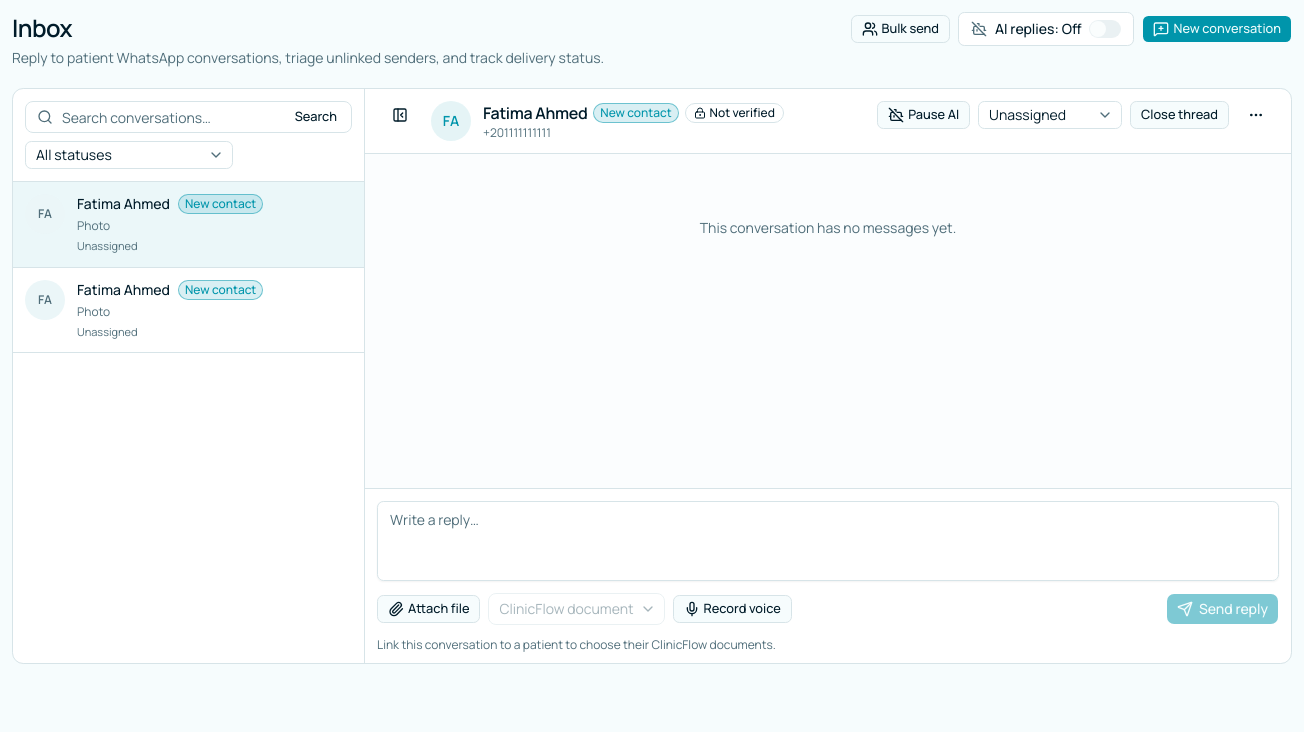
Test: P11Q — bulk selection is opt-in › turns rows into selectable ones only in selection mode
This screenshot has width=1304, height=732.
Click the button with test id "bulk-start-selecting": [900, 29] box [850,15,950,43]
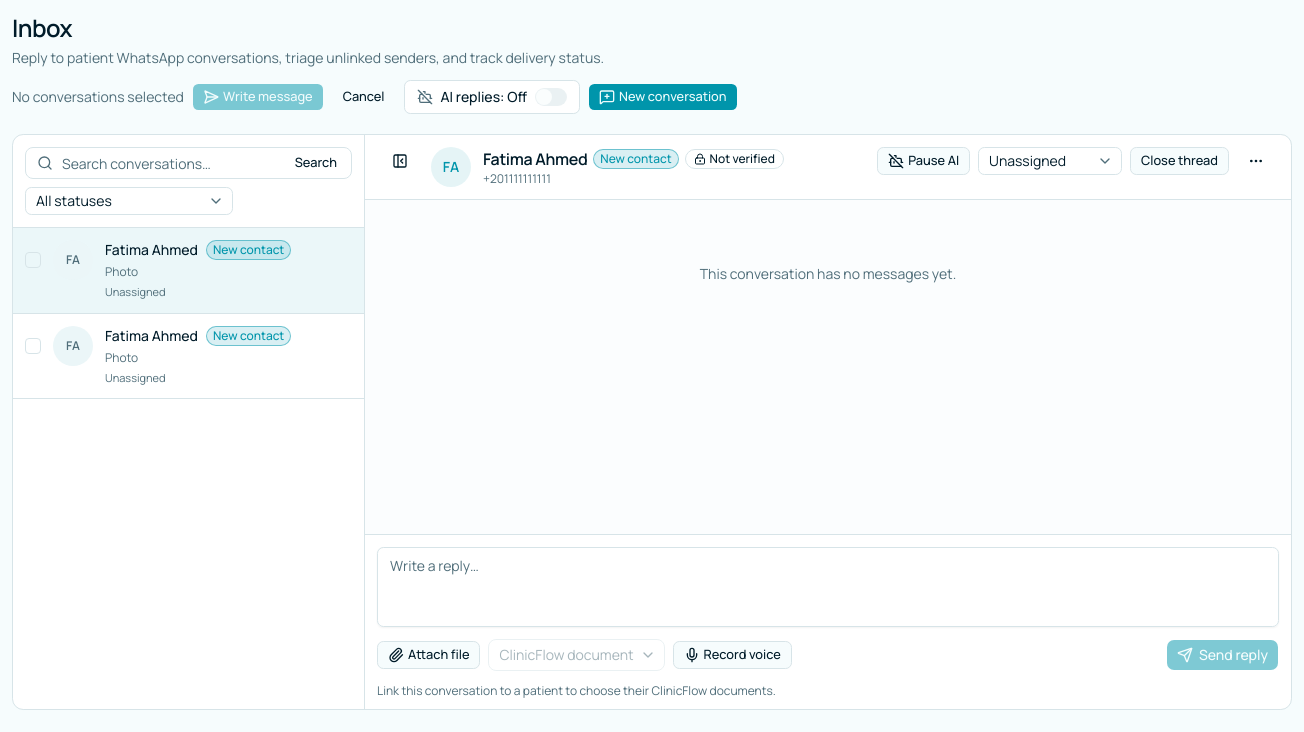
Now the number of checkboxes with test id "bulk-selectable-row" is 2, box [13,228,364,314]; [13,314,364,399]
